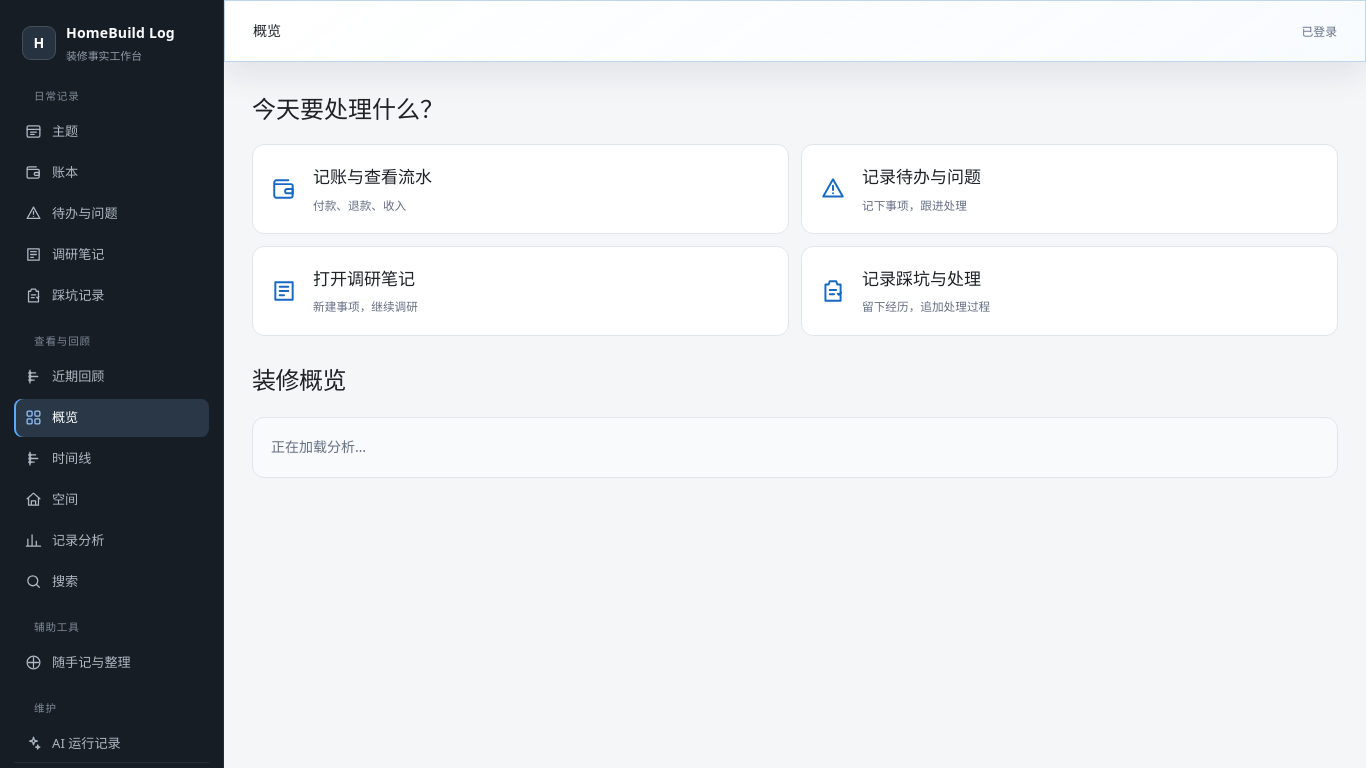
Test: CoreViews › 首页直达业务，统一录入位于辅助工具，账本可就地新增
Click the button "记账与查看流水 付款、退款、收入": (372, 177) 252,144 -> 789,234
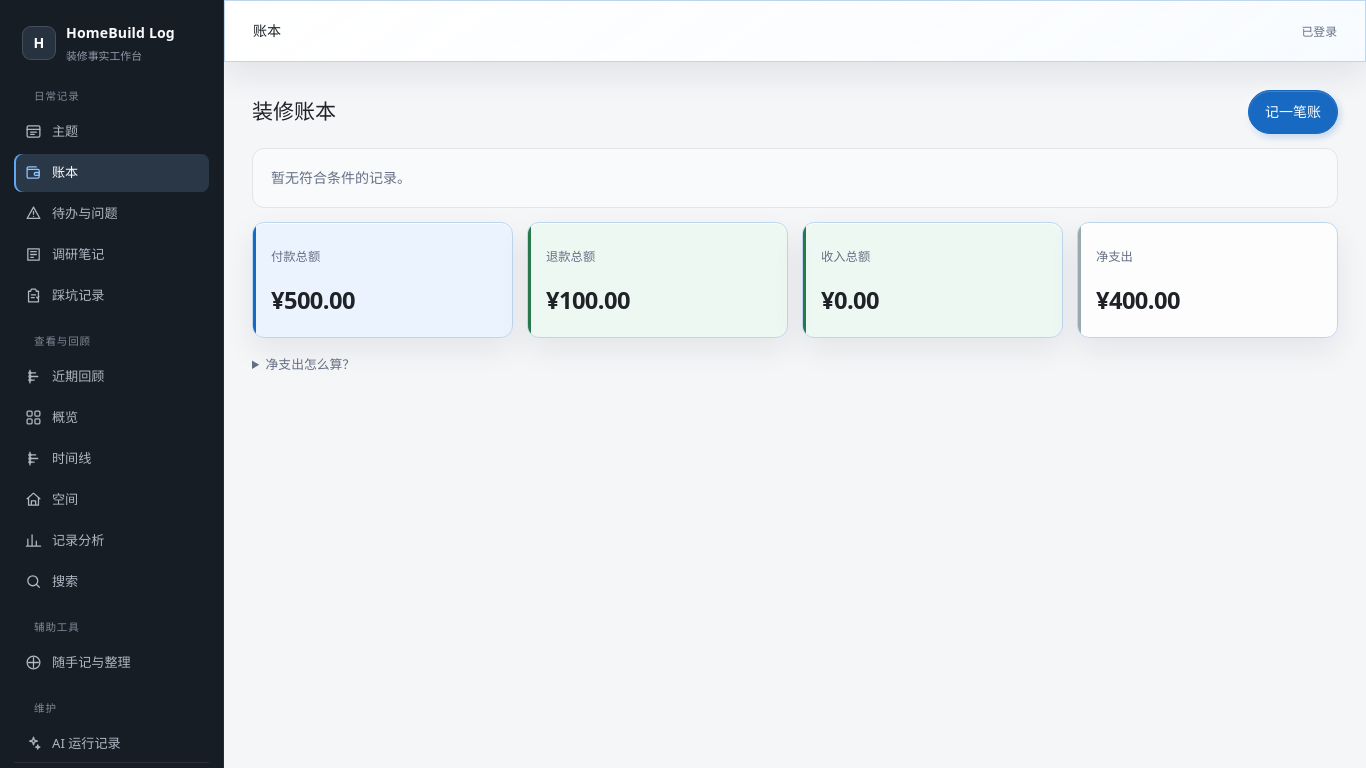
Expected: the element "随手记与整理" shows "辅助工具", 34,620 -> 80,634
Expected: the heading "装修账本" is shown, 252,95 -> 336,129
Expected: the button "记一笔账" is shown, 1248,90 -> 1338,134
